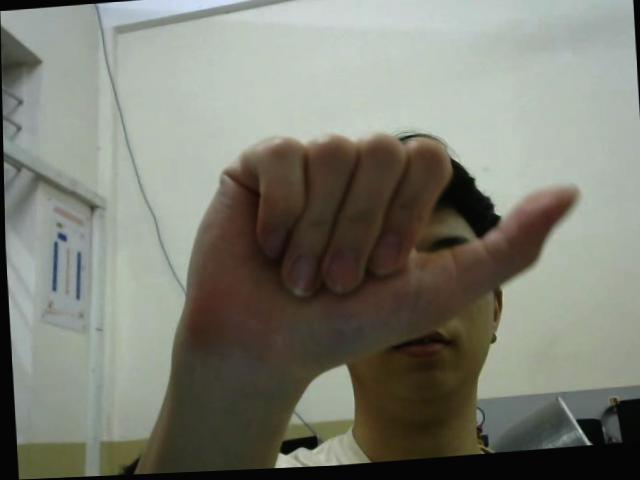A: (173, 115, 586, 375)
